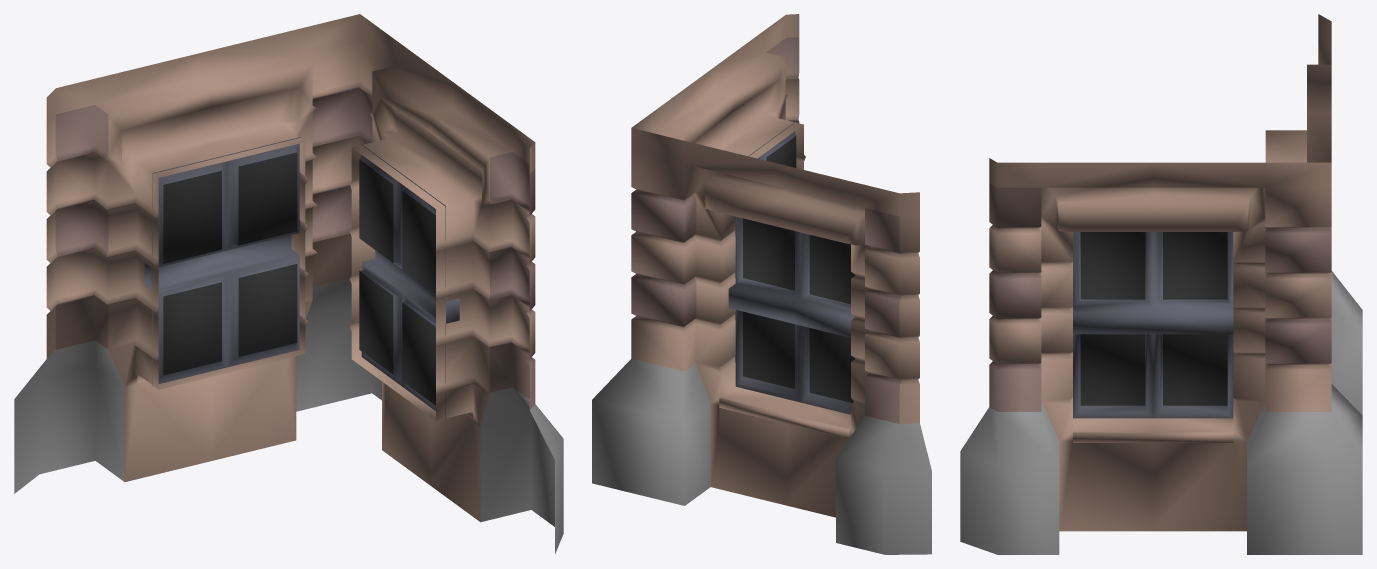
Rendered from facade_b.gltf.
3 renders of one model, left to right at view 1: azimuth 30°, elevation 25°; view 2: azimuth 150°, elevation 25°; view 3: azimuth 270°, elevation 25°, orthographic. The views are drawn at different scales.
Visible parts, largest first — view 1: Cube.005; view 2: Cube.005; view 3: Cube.005.
Boxes of the visible parts, <box> form: Cube.005: <box>14,14,563,553</box>; Cube.005: <box>592,14,931,554</box>; Cube.005: <box>960,14,1362,554</box>.
Bounding box in the file's own units: 4.48 × 4.59 × 4.41.
